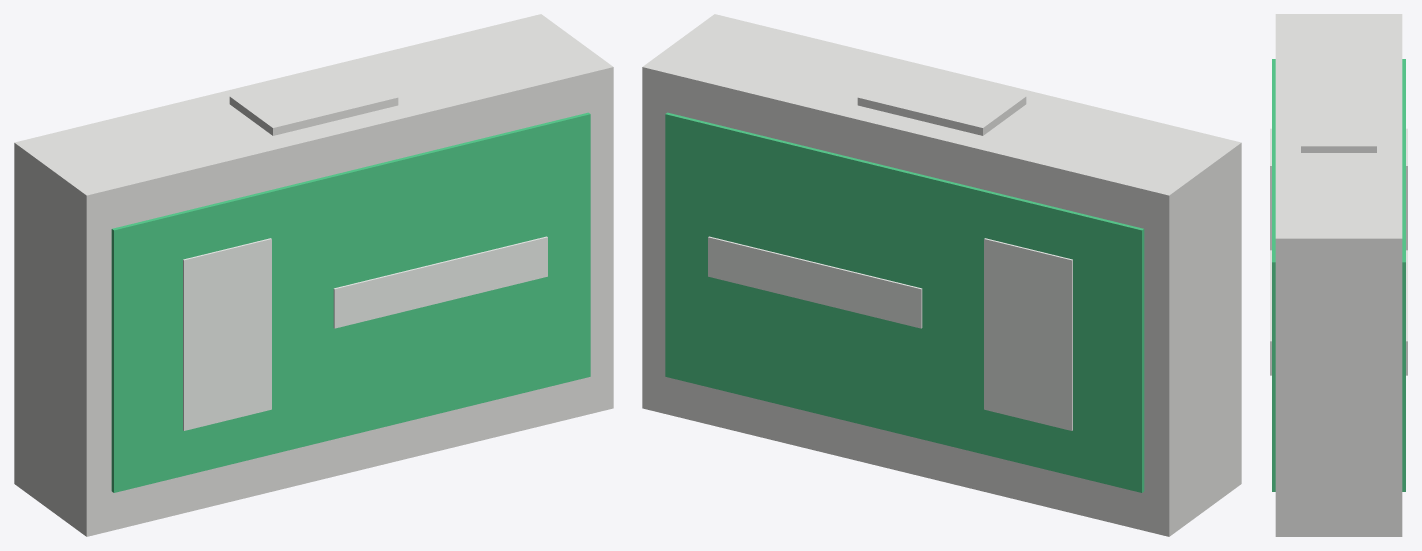
The model's file is dm_exitsign.glb.
3 renders of one model, left to right at view 1: azimuth 30°, elevation 25°; view 2: azimuth 150°, elevation 25°; view 3: azimuth 270°, elevation 25°, orthographic. The views are drawn at different scales.
Visible parts, largest first — view 1: dm_exitsign; view 2: dm_exitsign; view 3: dm_exitsign.
Boxes of the visible parts, x1,y1,x2,y2 form: dm_exitsign: (14, 14, 613, 536); dm_exitsign: (642, 14, 1241, 536); dm_exitsign: (1270, 14, 1407, 536).
Bounding box in the file's own units: 0.42 × 0.266 × 0.109.
